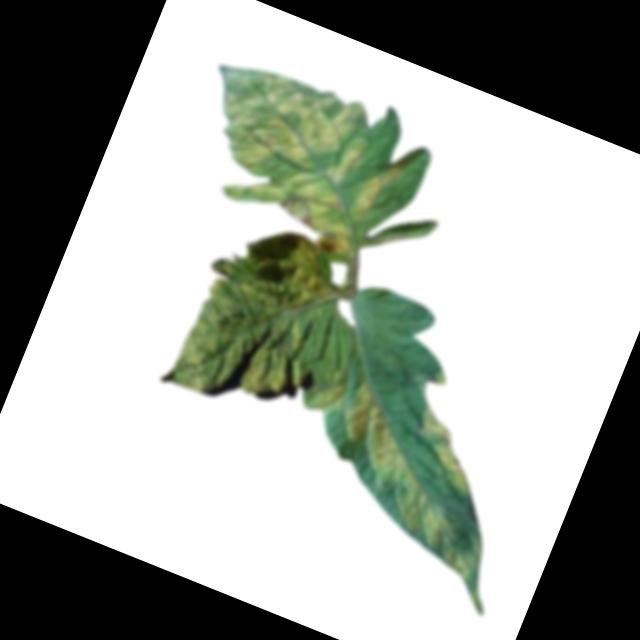Leaf_Mold: (266, 357, 530, 583), (172, 46, 430, 261), (158, 203, 351, 430), (401, 403, 491, 493)
